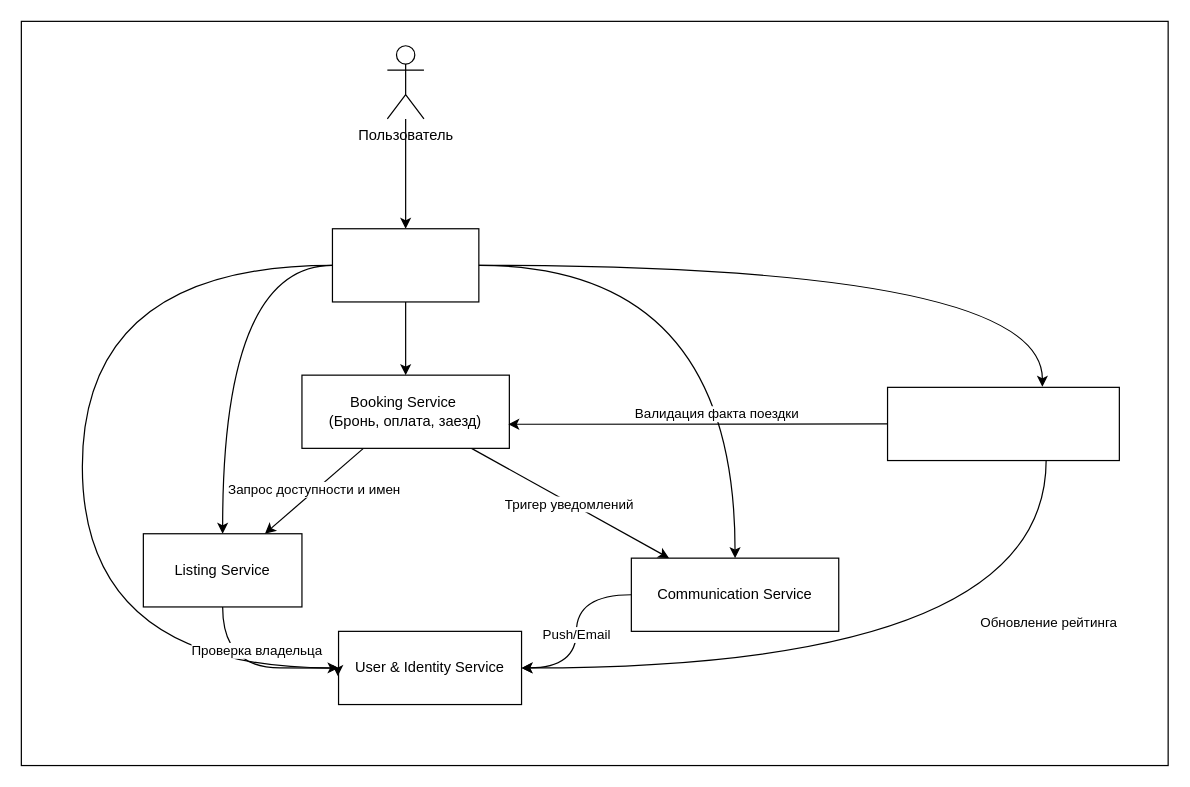
The diagram is 1190 pixels wide and 787 high, and some of its shapes have lost their labels. Each missing label, with the centre of its shape:
"API Gateaway" belongs at pixel 405 265.
"Review & Reputation Service" belongs at pixel 1002 423.
